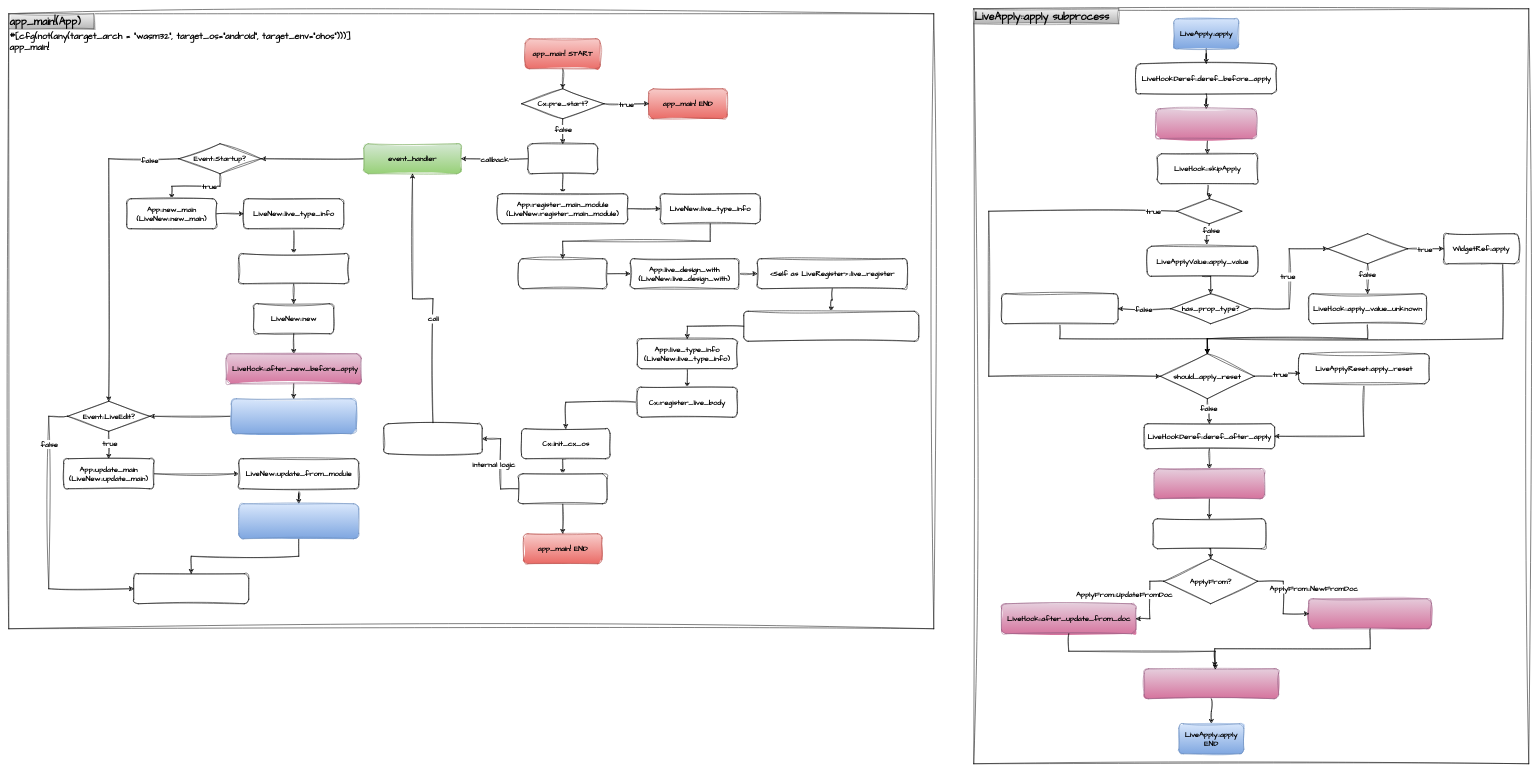
This 1538x773 diagram has some shape labels left out. Each missing label, with the centre of its shape:
"<dyn AppMain>::handle_event" belongs at [191,588].
"<WidgetRef as LiveNew>::live_design_with" belongs at [831,326].
"Cx::call_event_handler (Event::Startup)" belongs at [432,438].
"Cx::event_loop" belongs at [562,488].
"Cx::new" belongs at [562,158].
"is_some?" belongs at [1209,211].
"live_design (live_design marco)" belongs at [562,273].
"LiveApply::apply subprocess (ApplyFrom::NewFromDoc)" belongs at [293,416].
"LiveApply::apply subprocess (ApplyFrom::UpdateFromDoc)" belongs at [298,521].
"LiveHook ::after_apply" belongs at [1209,483].
"LiveHook ::after_apply_from" belongs at [1209,533].
"LiveHook ::after_new_from_doc" belongs at [1370,613].
"LiveHook ::apply_value_instance" belongs at [1059,308].
"LiveHook ::before_apply" belongs at [1206,123].
"LiveHook:: after_apply_from_doc" belongs at [1211,683].
"LiveNew::new_from_module" belongs at [293,268].
"match LiveId?" belongs at [1367,248].
